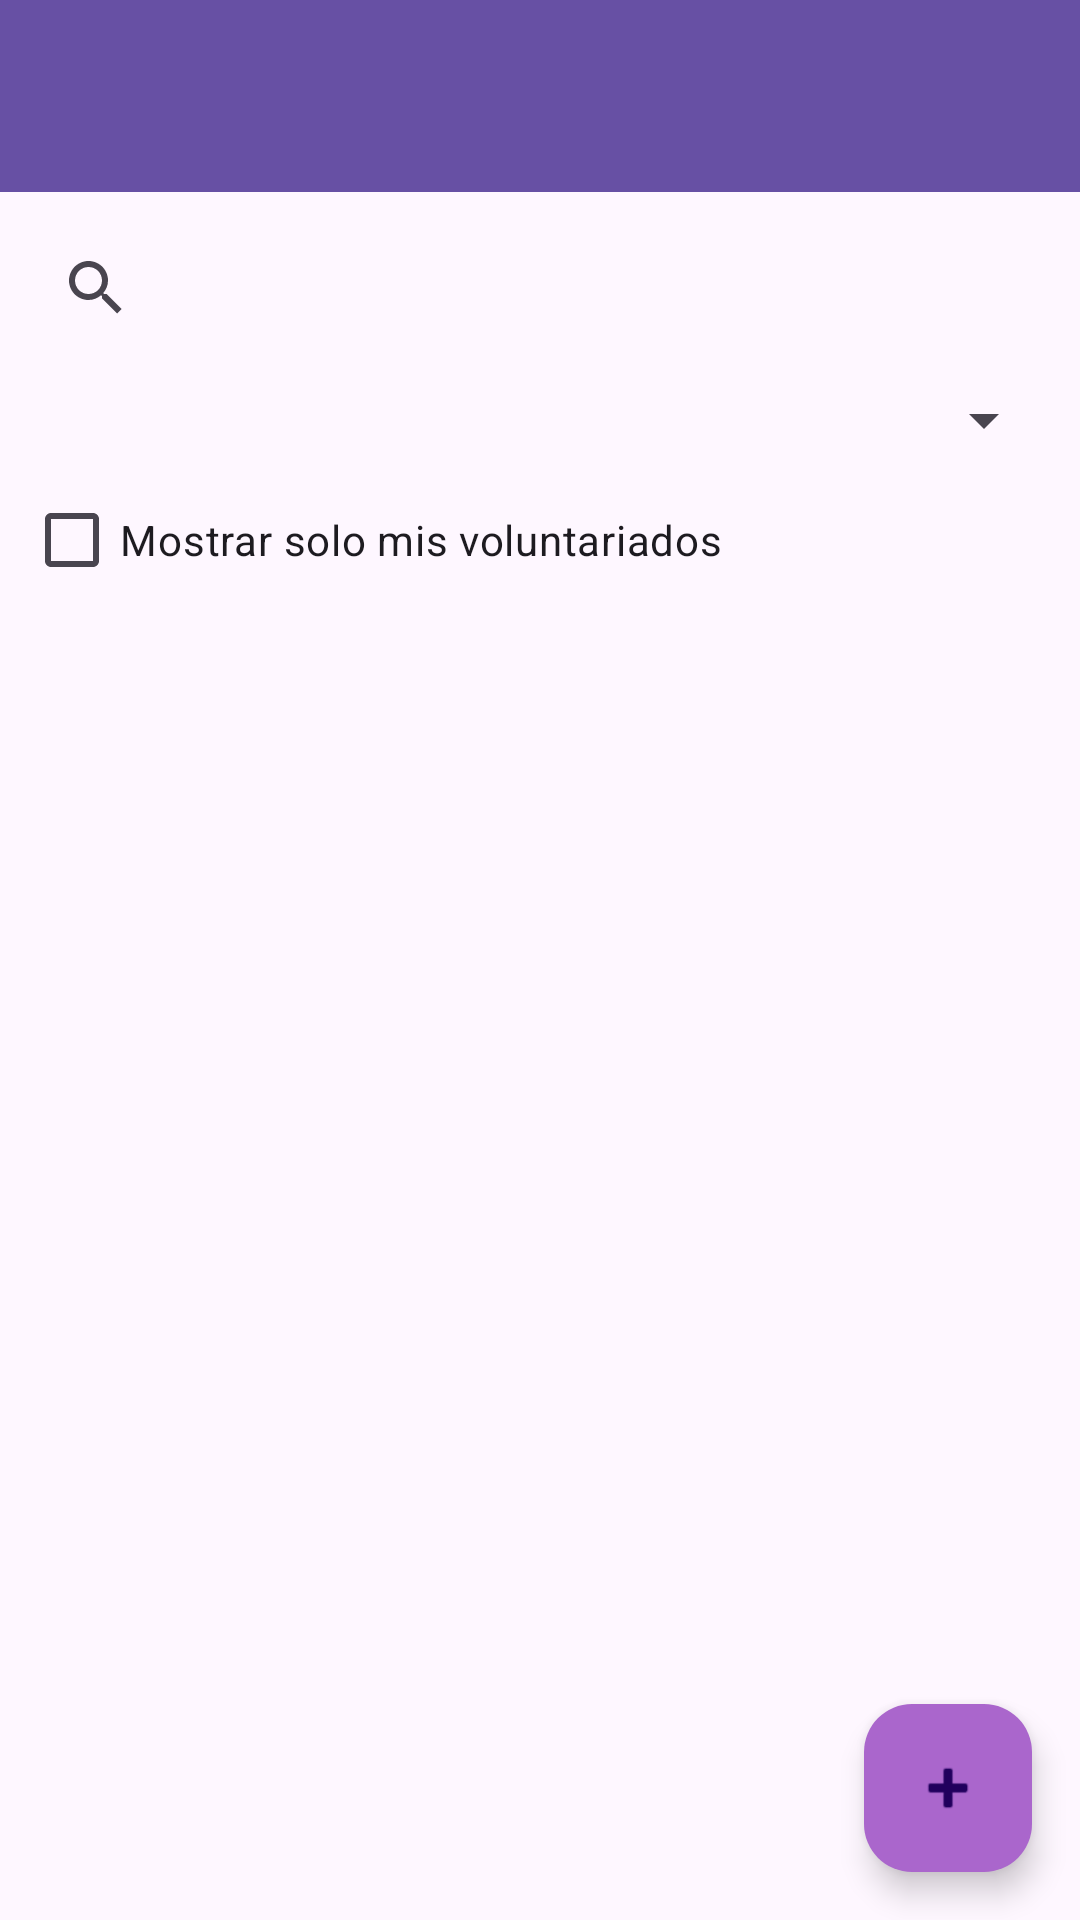

Named icons in this screenshot (1080x1920) and their bounding boxes, {"left": x1, "top": y1, "right": x2, "bottom": y2}:
Agregar voluntariado: {"left": 864, "top": 1704, "right": 1032, "bottom": 1872}
